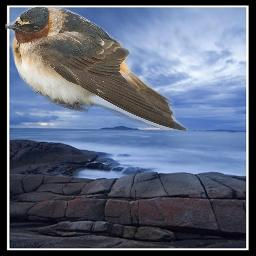Swallow: (5, 6, 188, 132)
